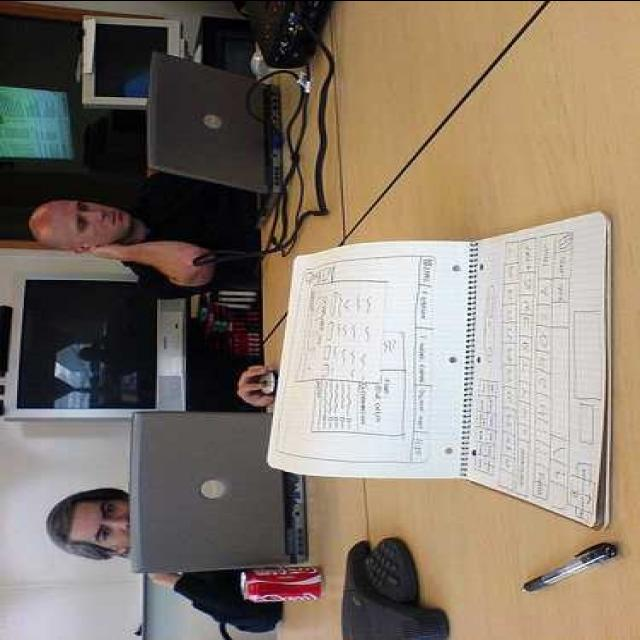laptop: (116, 391, 304, 589), (148, 54, 284, 218)
